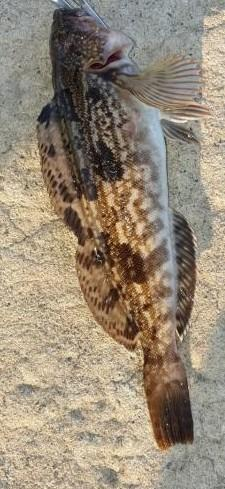fish: (37, 0, 209, 448)
